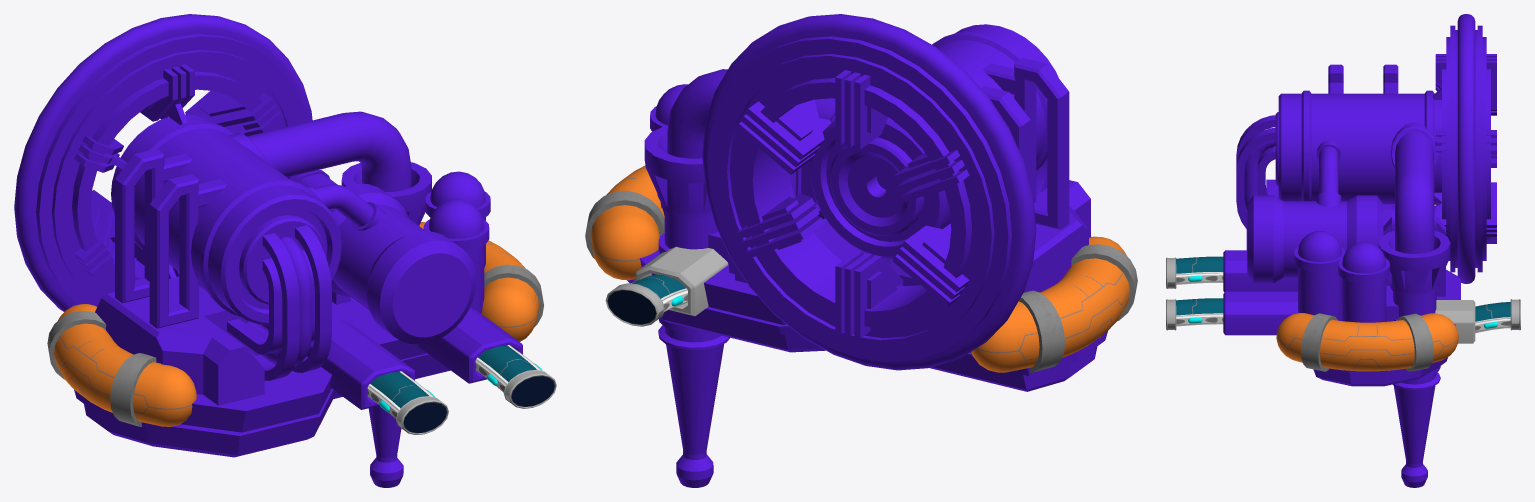
File: Accelerator_Unity.fbx
3 renders of one model, left to right at view 1: azimuth 30°, elevation 25°; view 2: azimuth 150°, elevation 25°; view 3: azimuth 270°, elevation 25°, orthographic. The views are drawn at different scales.
Visible parts, largest first — view 1: Cube.216; view 2: Cube.216; view 3: Cube.216.
Boxes of the visible parts, bbox=[...] form: Cube.216: bbox=[14, 14, 556, 487]; Cube.216: bbox=[585, 14, 1137, 487]; Cube.216: bbox=[1166, 14, 1520, 487].
Size of the model in its own units: 1641 by 1721 by 1442.
